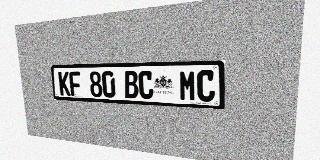0: (101, 71, 116, 98)
8: (89, 71, 103, 97)
B: (124, 71, 139, 99)
C: (197, 70, 215, 102), (138, 71, 154, 99)
F: (69, 71, 82, 96)
K: (58, 72, 71, 96)
M: (179, 70, 196, 101)
